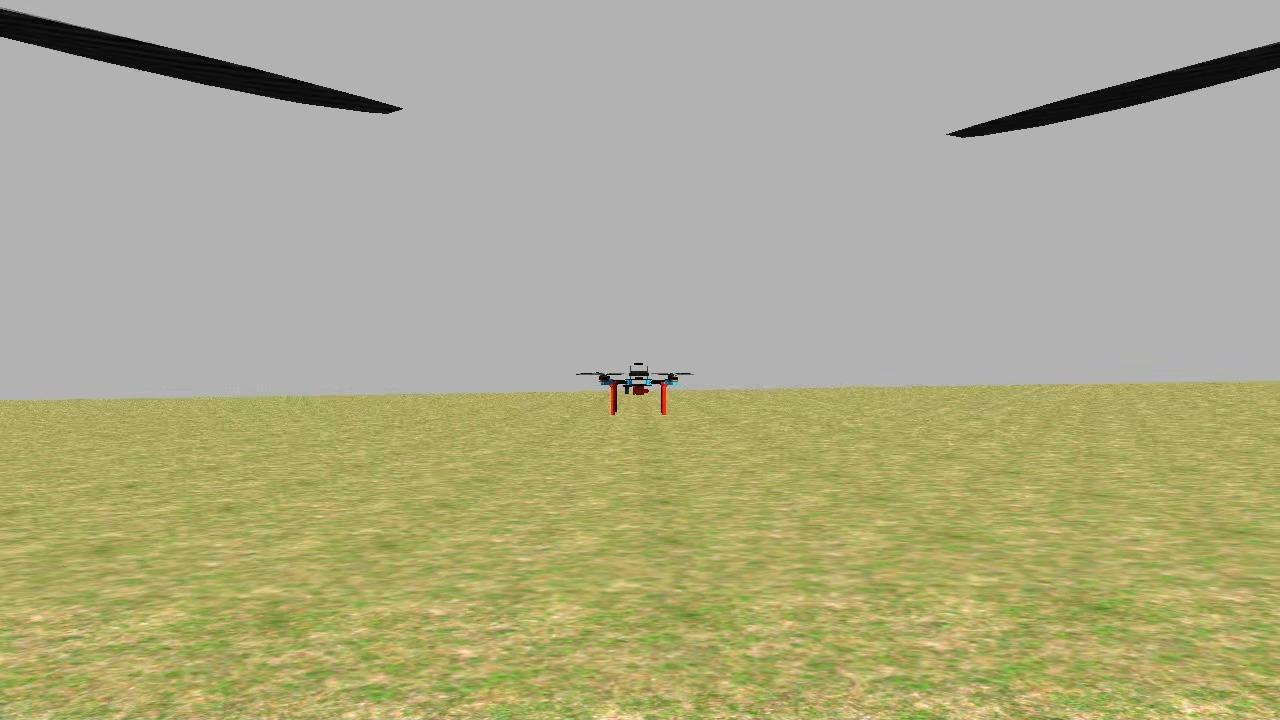UAV: (588, 351, 688, 422)
